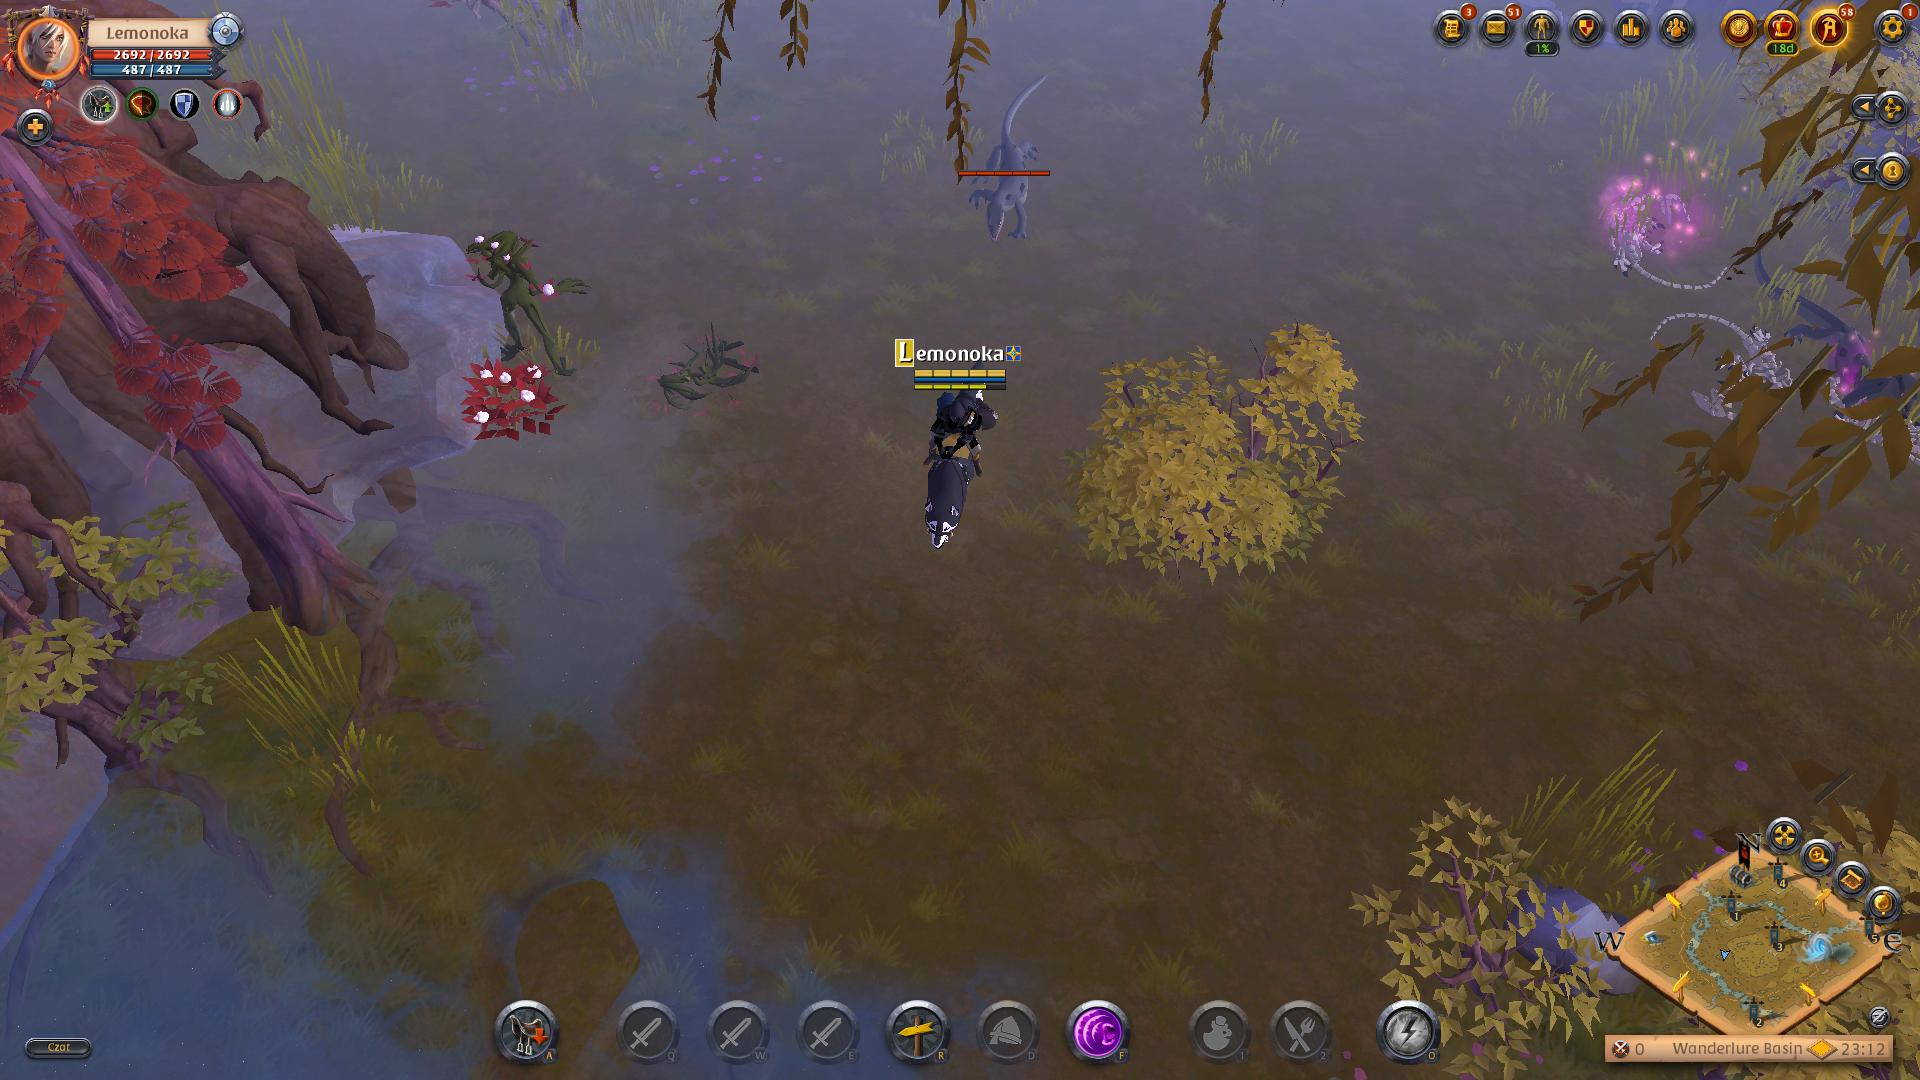fiber tier 5: (460, 349, 564, 450)
